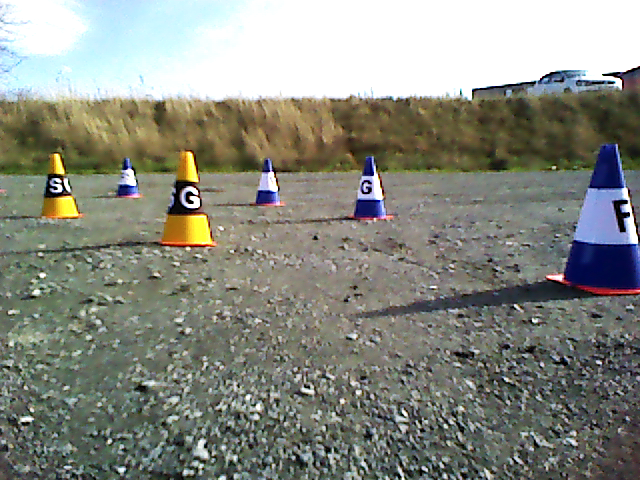bluecone: (567, 143, 640, 288), (355, 157, 385, 217), (256, 159, 279, 203), (116, 158, 138, 195)
yellowcone: (161, 150, 212, 243), (41, 154, 76, 216)
